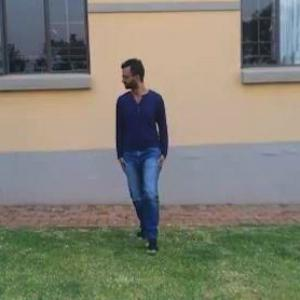follow: (105, 48, 169, 274)
